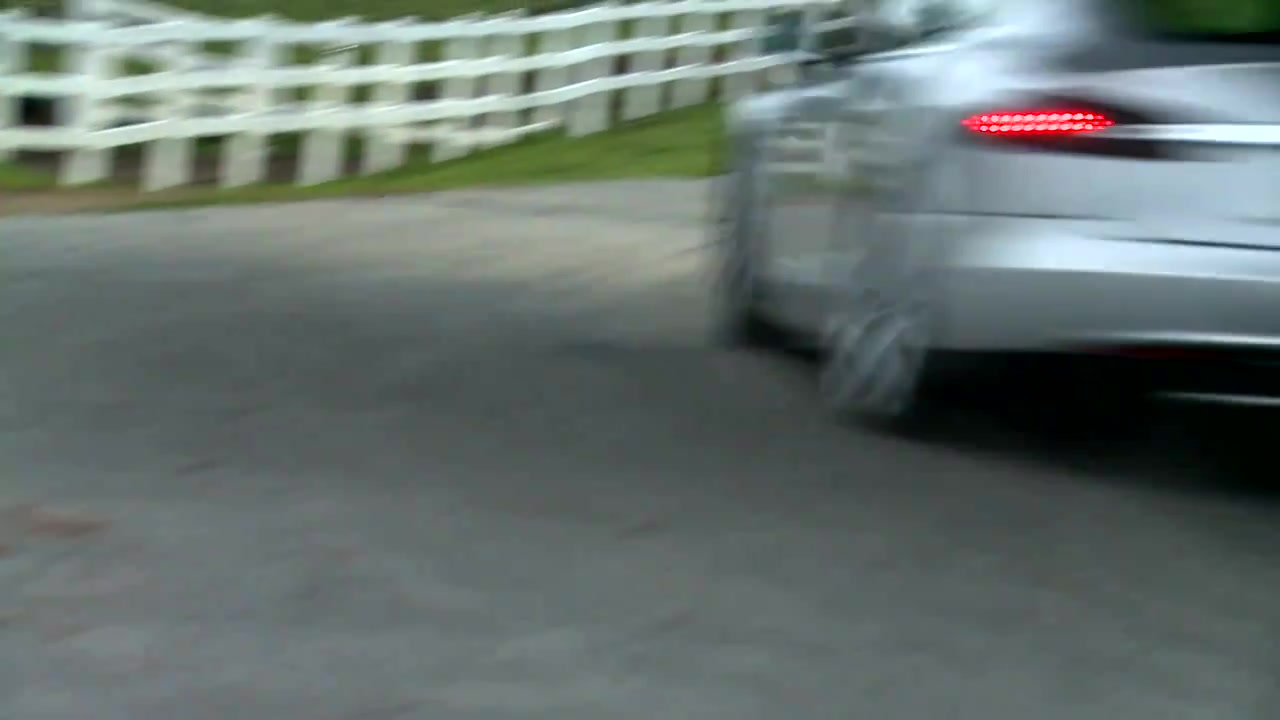car: (715, 2, 1280, 423)
